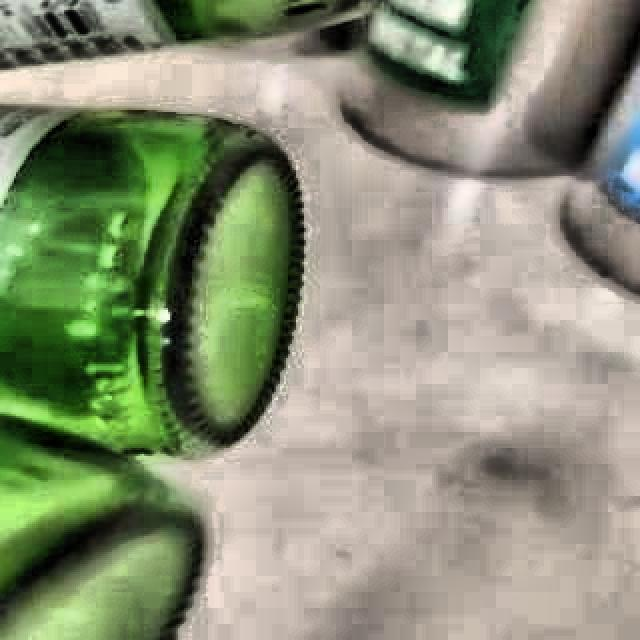glass: (0, 104, 304, 640)
